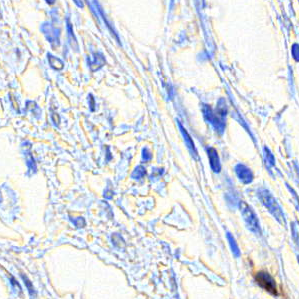Lymphocyte: (248, 256, 282, 296)
